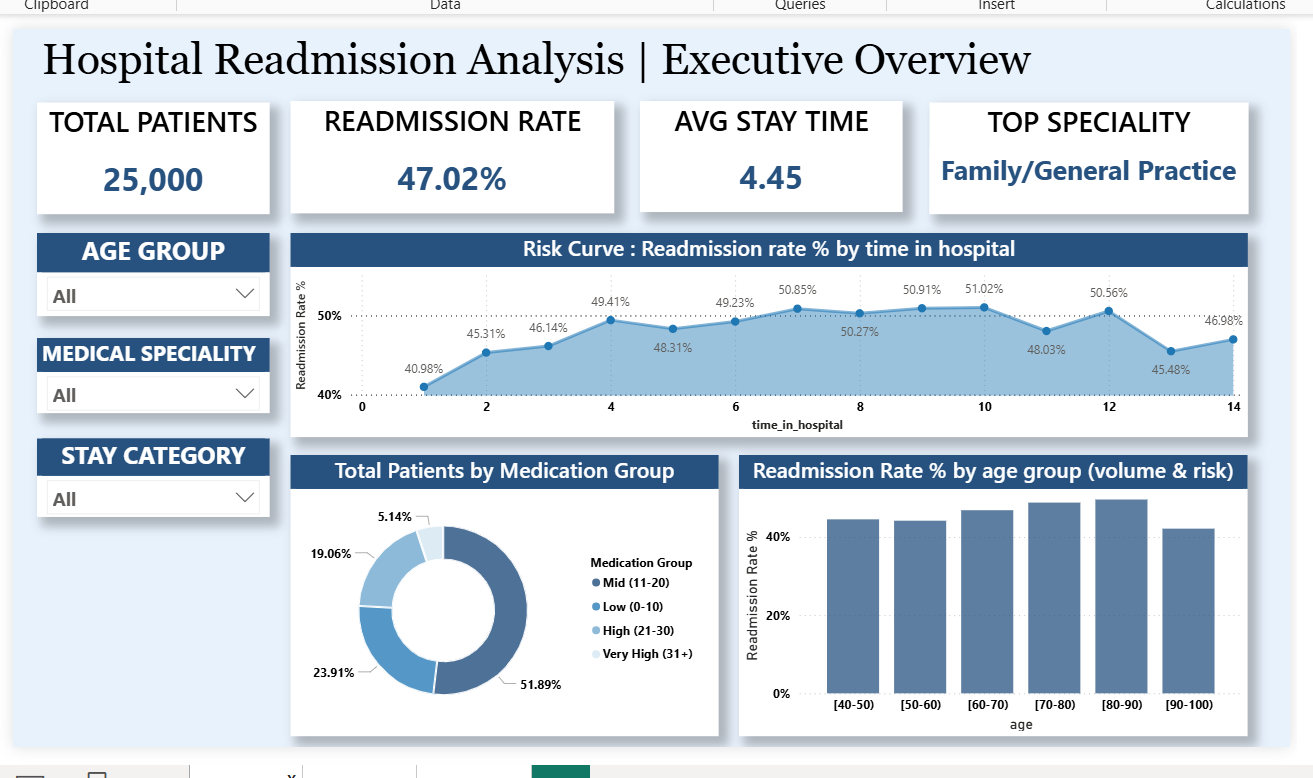

The dashboard page shown, as its layout file describes it:
{"tool":"powerbi","page":{"name":"Page 1","canvas":[1280,720],"ordinal":0},"visuals":[{"type":"cardVisual","title":"TOTAL PATIENTS","fields":{"Data":["processed_hospital_data.Total Patients"]},"box":[23.3,73.3,233.3,111.7],"z":0},{"type":"textbox","box":[23.3,0,1183.3,73.3],"z":1000},{"type":"cardVisual","title":"READMISSION RATE","fields":{"Data":["processed_hospital_data.Readmission Rate %"]},"box":[278.3,72.2,324.9,112.8],"z":2000},{"type":"cardVisual","title":"AVG STAY TIME","fields":{"Data":["processed_hospital_data.Avg Stay Duration"]},"box":[628.1,72.9,263.7,111.7],"z":3000},{"type":"slicer","title":"AGE GROUP","fields":{"Values":["processed_hospital_data.age"]},"box":[23.3,205,233.3,83.3],"z":4000},{"type":"slicer","title":"MEDICAL SPECIALITY","fields":{"Values":["processed_hospital_data.medical_specialty"]},"box":[23.3,310,233.3,75],"z":5000},{"type":"slicer","title":"STAY CATEGORY","fields":{"Values":["processed_hospital_data.stay_category"]},"box":[23.3,410,233.3,78.3],"z":6000},{"type":"cardVisual","title":"TOP SPECIALITY","fields":{"Data":["processed_hospital_data.Top Specialty by Volume"]},"box":[918.3,73.3,320,111.7],"z":7000},{"type":"textbox","box":[919,117.3,318.9,67.7],"z":8000},{"type":"clusteredColumnChart","title":"Readmission Rate % by age group (volume & risk)","fields":{"Category":["processed_hospital_data.age"],"Y":["processed_hospital_data.Readmission Rate %"]},"box":[728.3,426.7,510,281.7],"z":9000},{"type":"lineChart","title":"Risk Curve : Readmission rate % by time in hospital","fields":{"Category":["processed_hospital_data.time_in_hospital"],"Y":["processed_hospital_data.Readmission Rate %"]},"box":[277.6,204.7,960,204.7],"z":10000},{"type":"donutChart","fields":{"Y":["processed_hospital_data.Total Patients"],"Category":["processed_hospital_data.Medication Group"]},"box":[277.6,426.5,429.6,282.3],"z":11000}]}

Visuals, with their boxes on the page's 1280x720 design canvas (x1, y1, x2, y2). These are canvas units, not pixel positions in the 1313x778 screenshot, which may show the page scaled, cropped or inside an application window:
"TOTAL PATIENTS" cardVisual: 23/73/257/185
textbox: 23/0/1207/73
"READMISSION RATE" cardVisual: 278/72/603/185
"AVG STAY TIME" cardVisual: 628/73/892/185
"AGE GROUP" slicer: 23/205/257/288
"MEDICAL SPECIALITY" slicer: 23/310/257/385
"STAY CATEGORY" slicer: 23/410/257/488
"TOP SPECIALITY" cardVisual: 918/73/1238/185
textbox: 919/117/1238/185
"Readmission Rate % by age group (volume & risk)" clusteredColumnChart: 728/427/1238/708
"Risk Curve : Readmission rate % by time in hospital" lineChart: 278/205/1238/409
donutChart - processed_hospital_data.Total Patients x processed_hospital_data.Medication Group: 278/426/707/709
